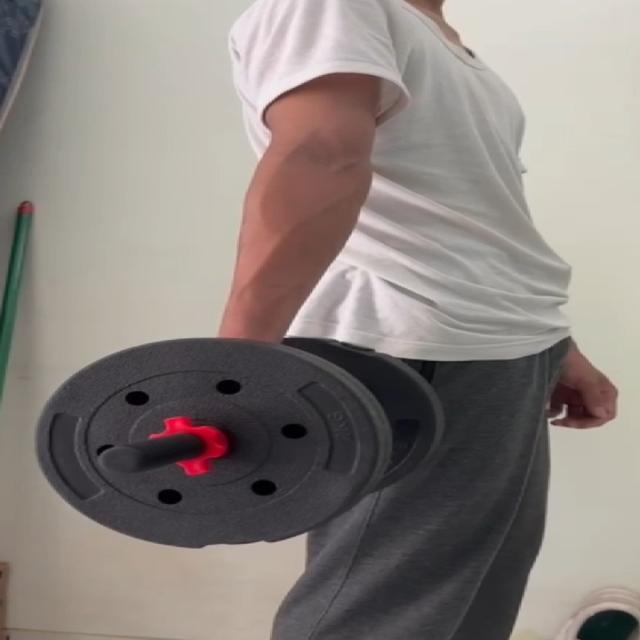dumbbell: (36, 337, 434, 546)
